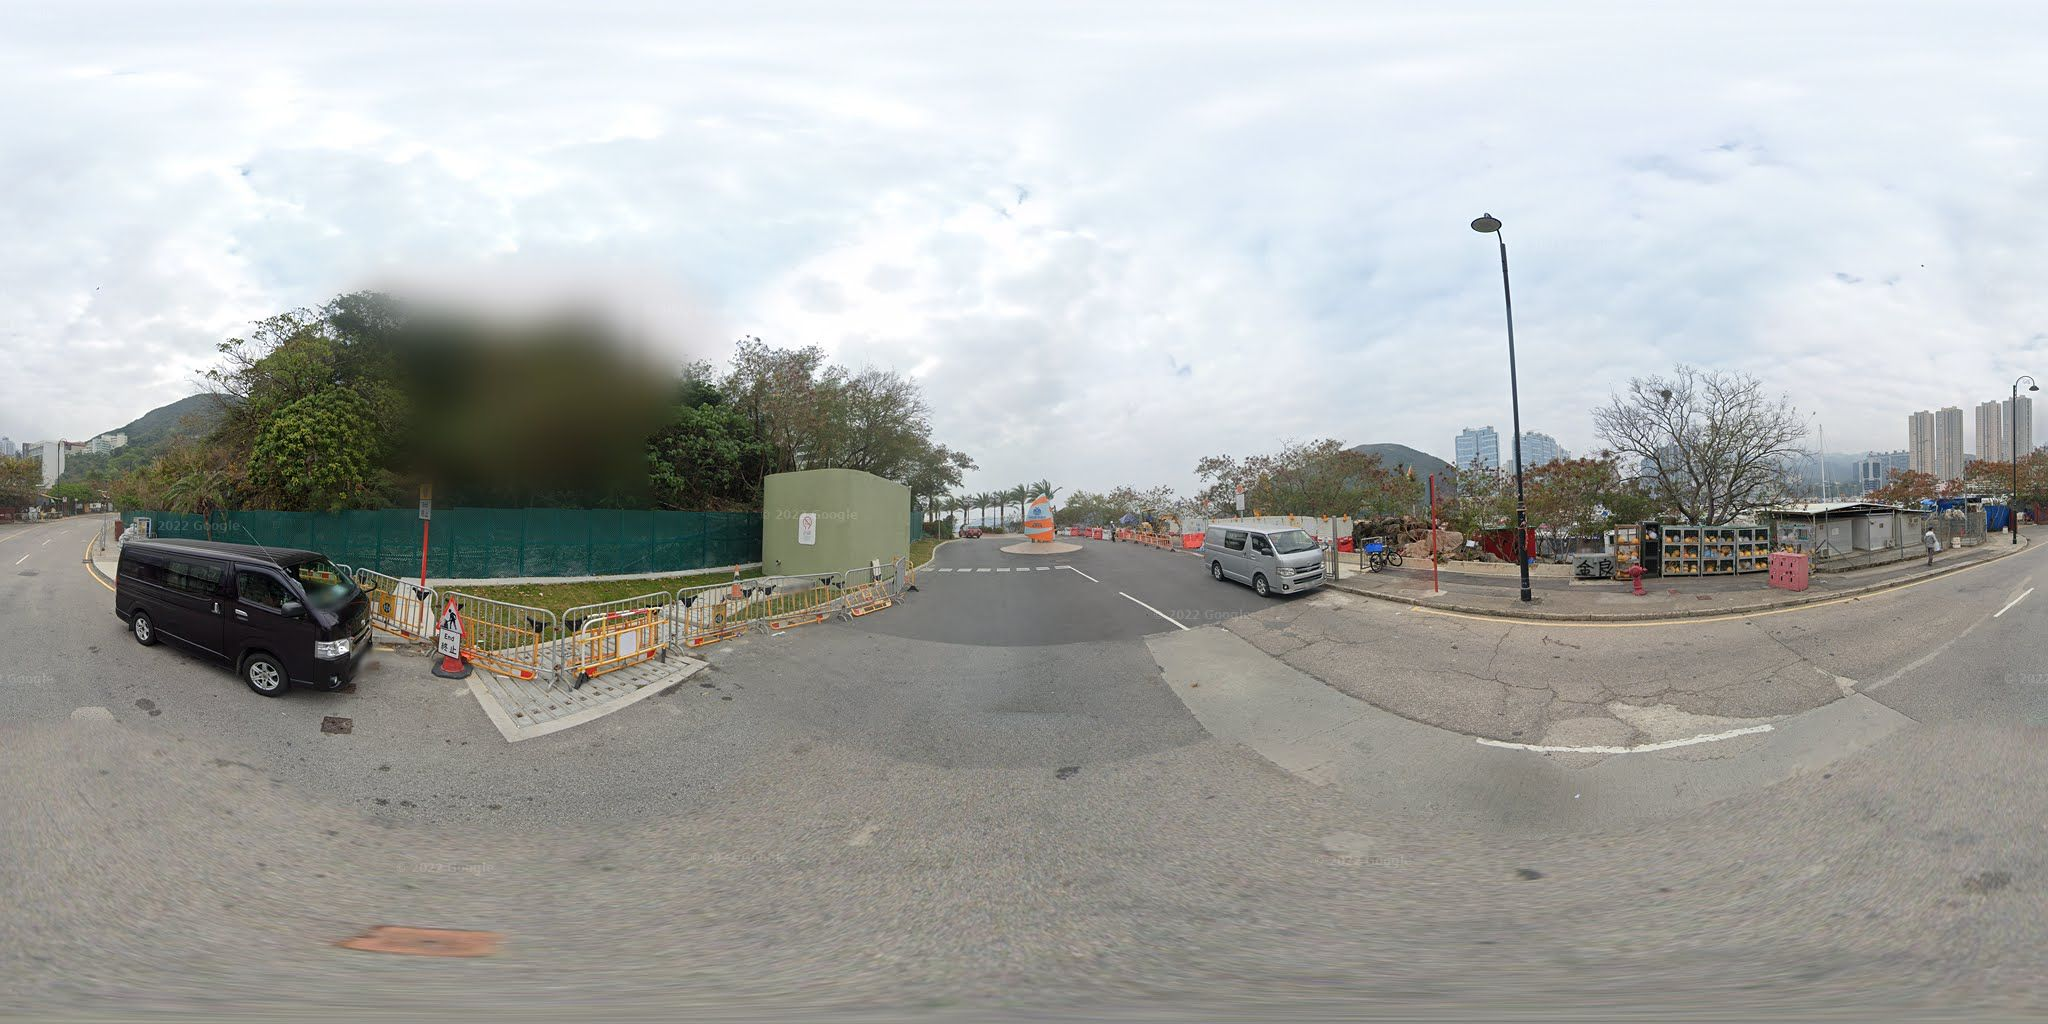SL: (1463, 206, 1515, 257), (2004, 368, 2043, 402)
